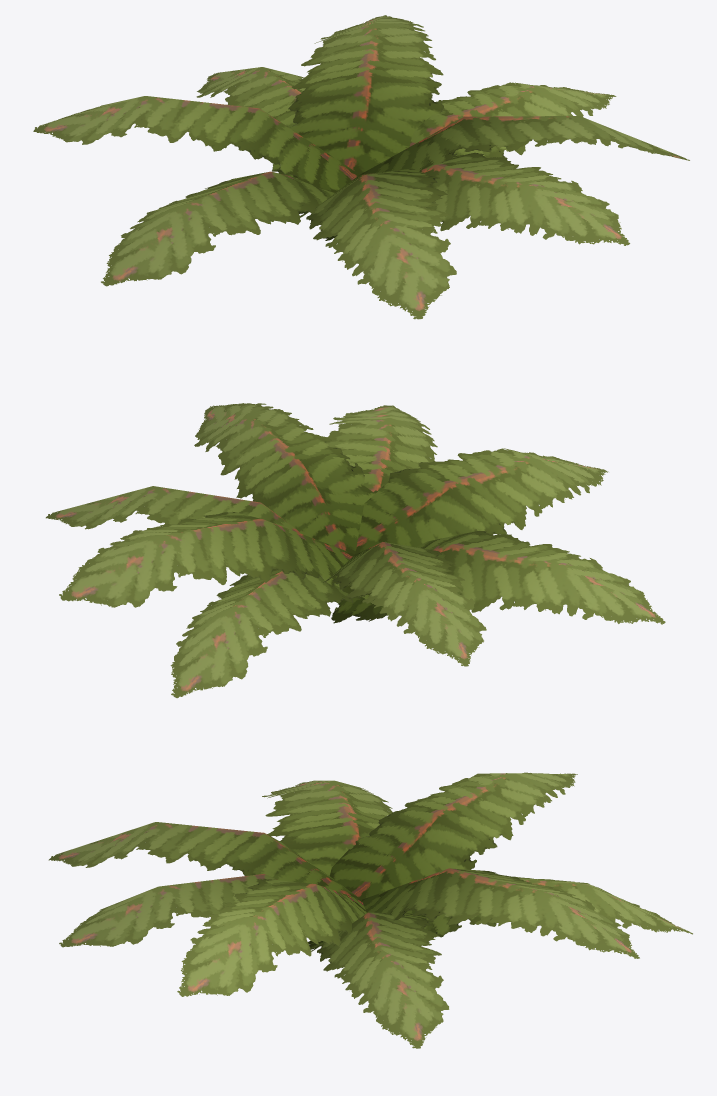
The model's file is Bush3.fbx.
3 renders of one model, top to bottom at view 1: azimuth 30°, elevation 25°; view 2: azimuth 150°, elevation 25°; view 3: azimuth 270°, elevation 25°, orthographic.
Parts seen in each view (by area): view 1: Bush3; view 2: Bush3; view 3: Bush3.
Boxes of the visible parts, <box> form: Bush3: <box>33,15,689,319</box>; Bush3: <box>45,403,665,698</box>; Bush3: <box>48,772,693,1048</box>.
Size of the model in its own units: 1.74 by 0.2947 by 1.73.
